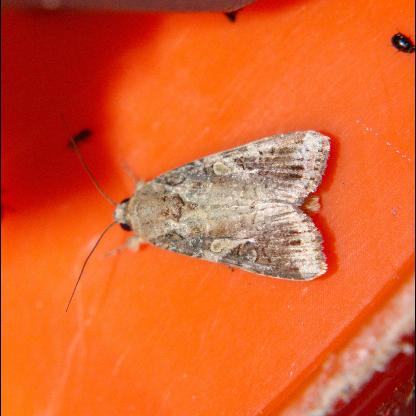Fall Armyworm Moth: (52, 126, 334, 314)
